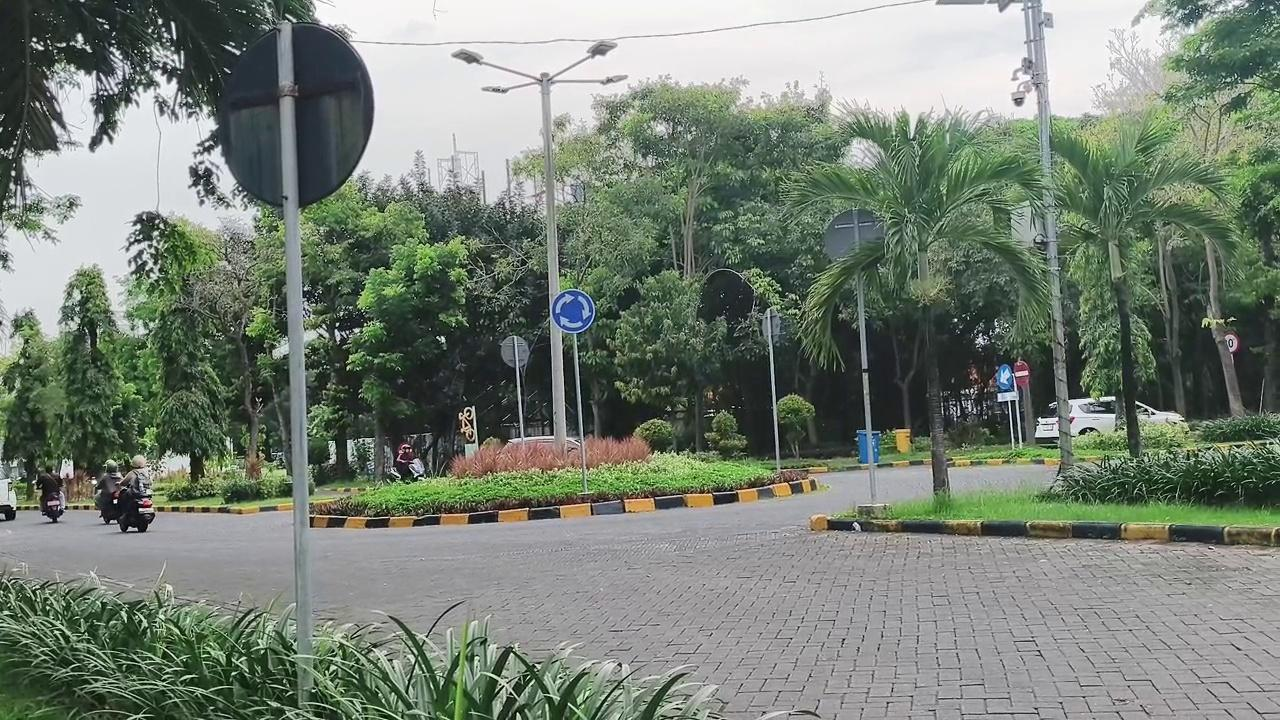Helmet: (95, 461, 123, 515), (122, 455, 150, 502), (36, 464, 64, 507), (393, 443, 415, 479)
Motor: (113, 489, 154, 532), (388, 458, 425, 481), (41, 494, 64, 523)
